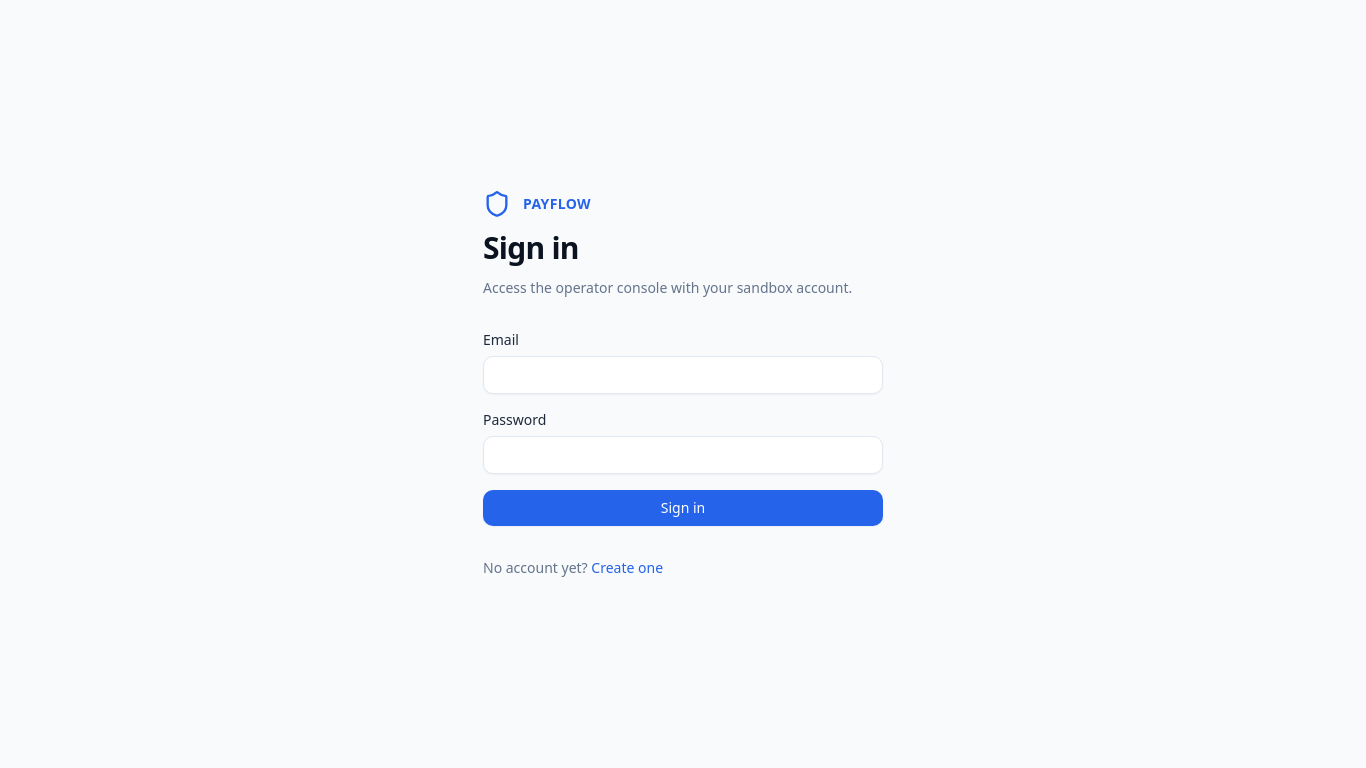
Scenario: protected routes and logout › redirects unauthenticated visitors to login and preserves destination
Expected: the heading "Sign in" is shown, [483,227,579,268]
In the field labelled "Email": (683, 375) [483,356,883,394], type "operator@example.com"
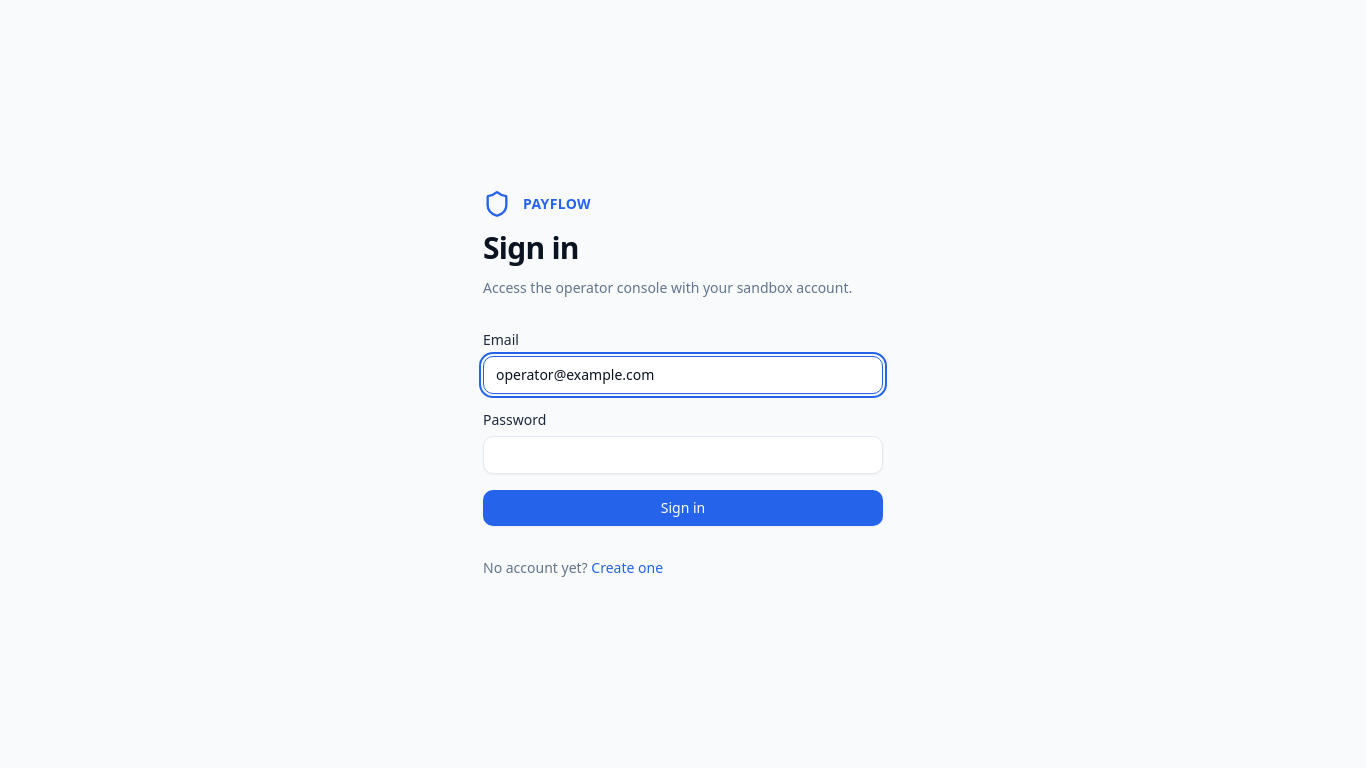
In the password field labelled "Password": (683, 455) [483,436,883,474], type "Str0ngPass!"
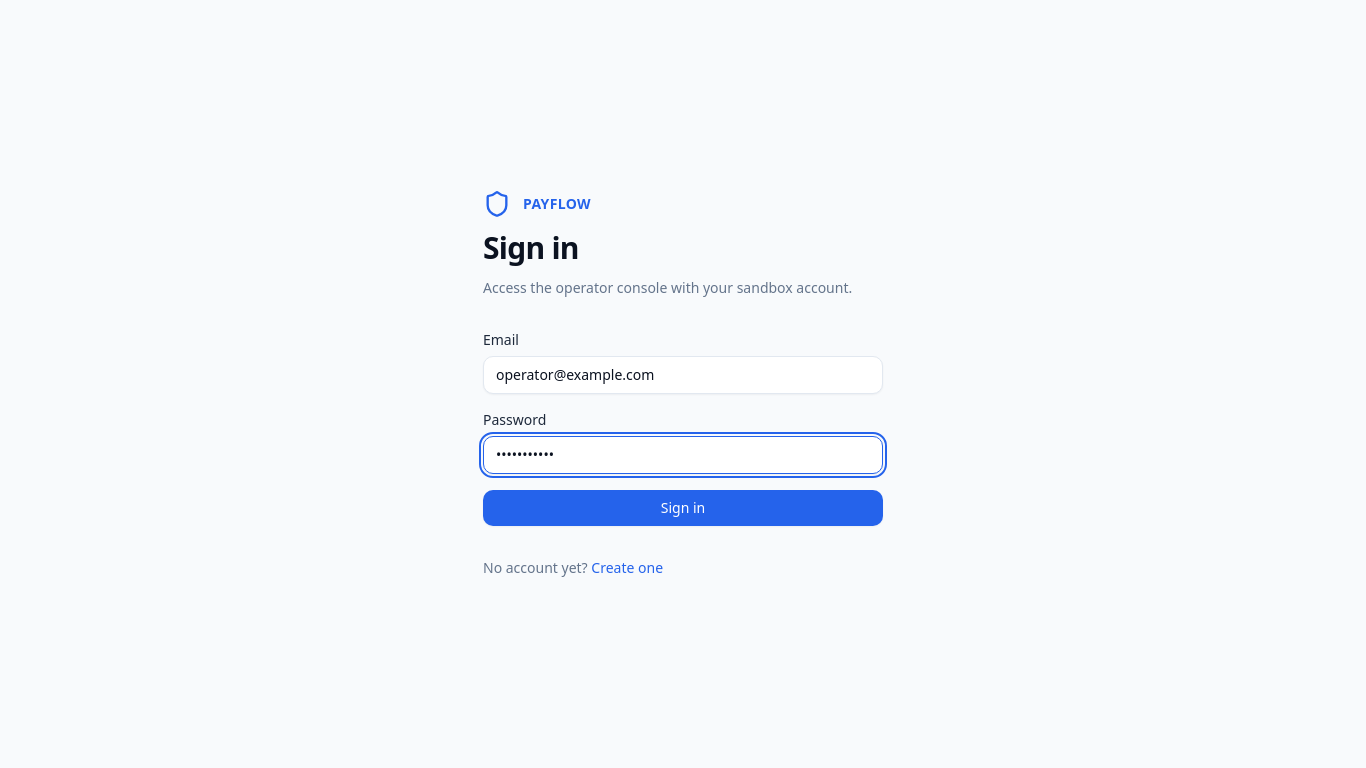
Click the button "Sign in": (683, 508) [483,490,883,526]
(page scrolled)
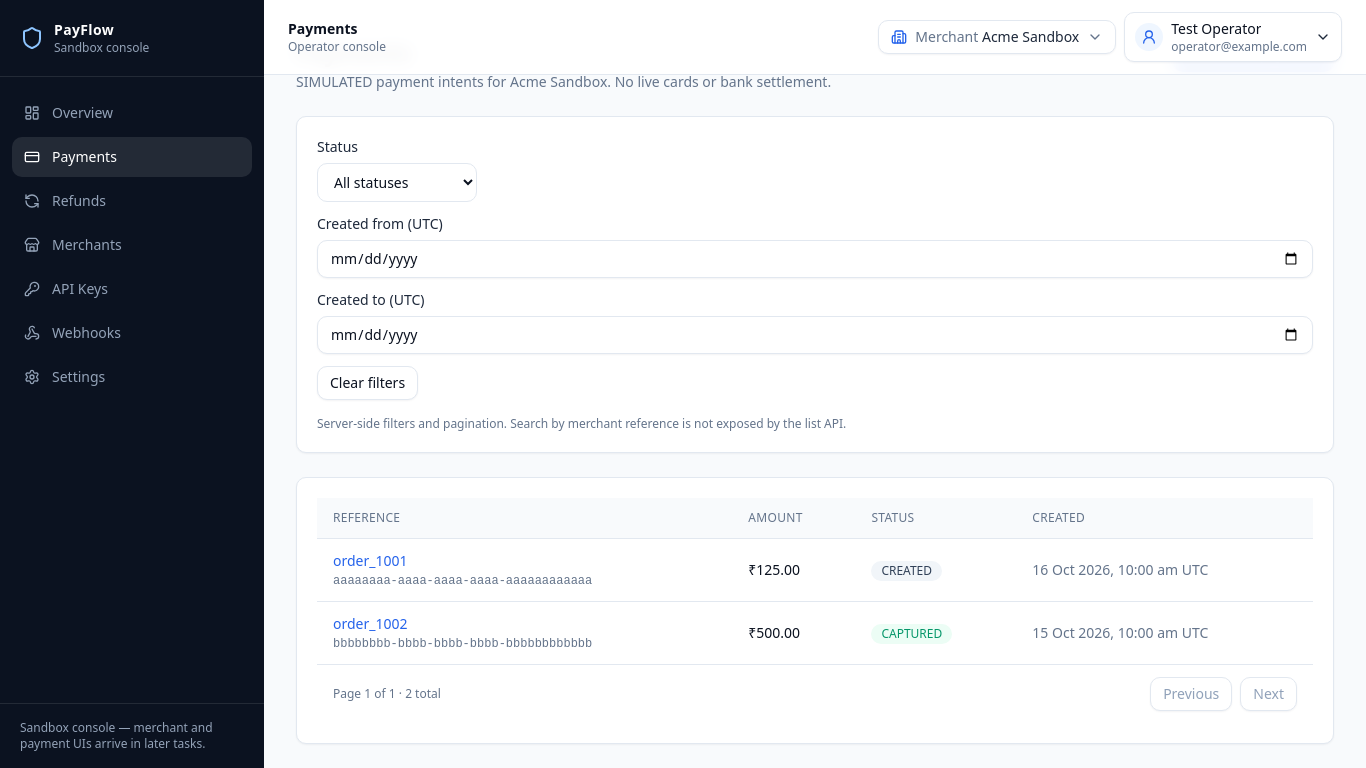
Result: the heading "Payments" is shown at [296,35,410,68]
Result: the element with test id "payments-table" is shown at [296,477,1334,744]
